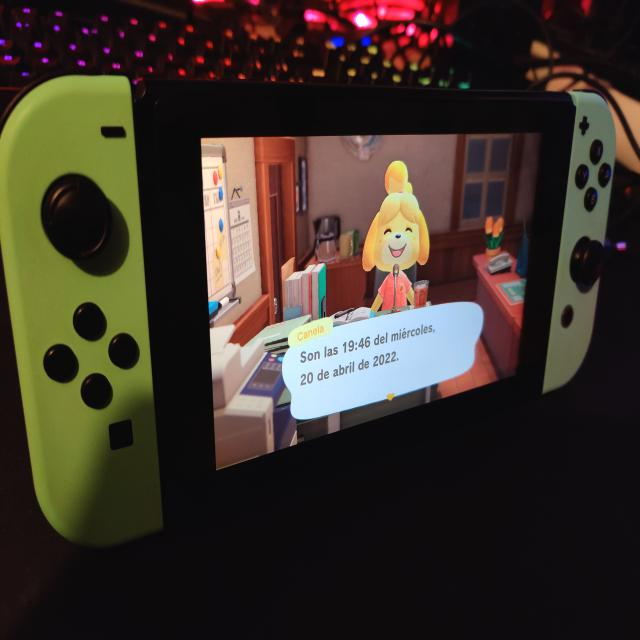text_bubble: (284, 301, 484, 421)
